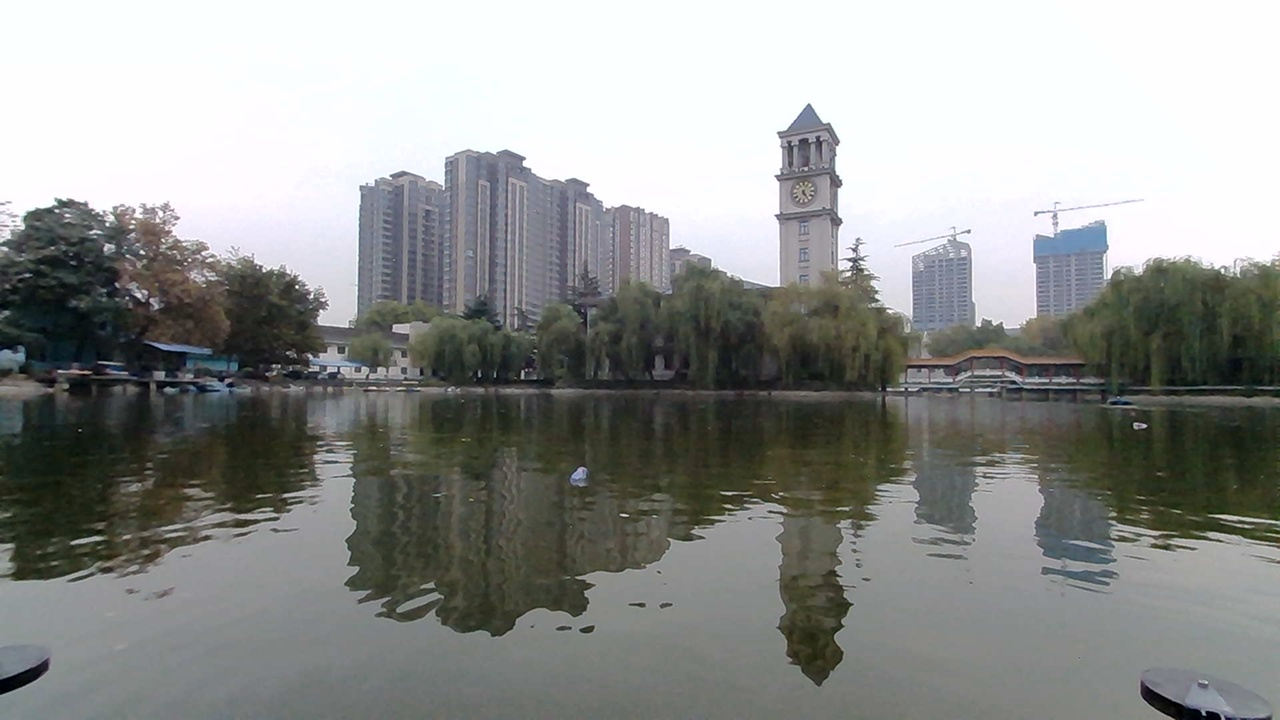bottle: (542, 444, 620, 491), (1113, 410, 1153, 437)
